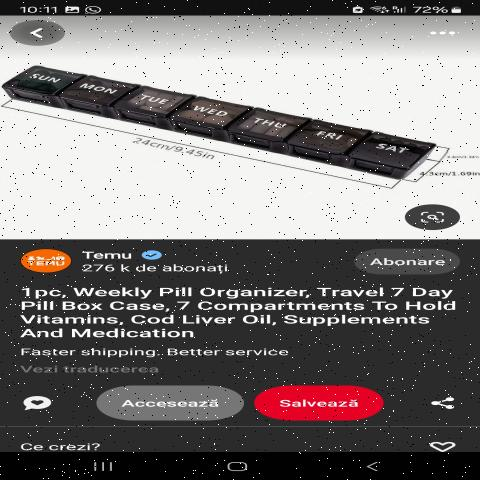Pill-box: (4, 48, 452, 189)
